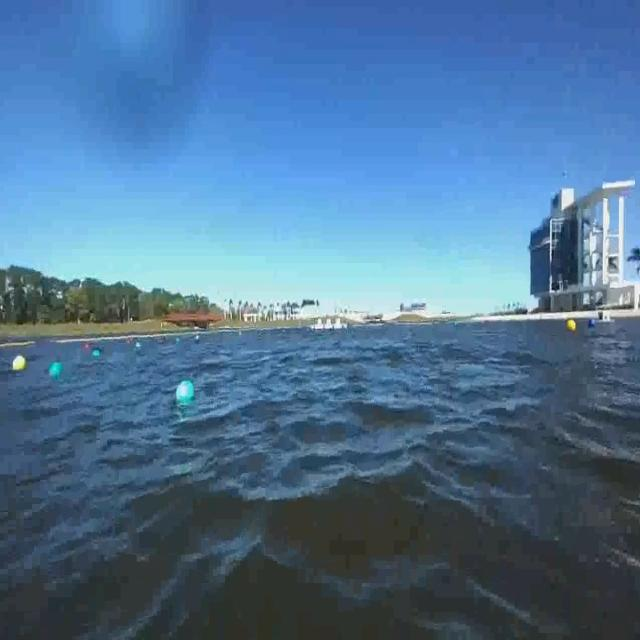green-buoy: (174, 378, 198, 412), (51, 361, 64, 374), (93, 350, 102, 359)
yellow-buoy: (12, 355, 26, 372), (566, 317, 577, 334)
